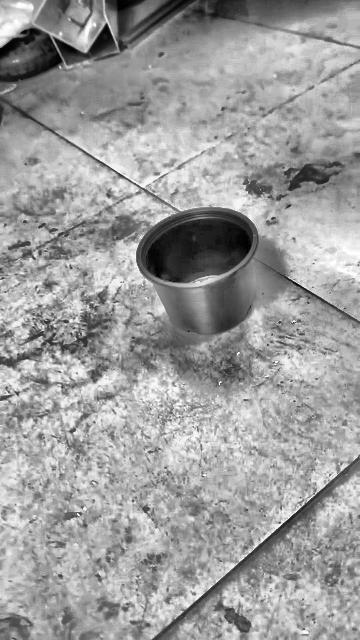pot: (135, 208, 258, 335)
